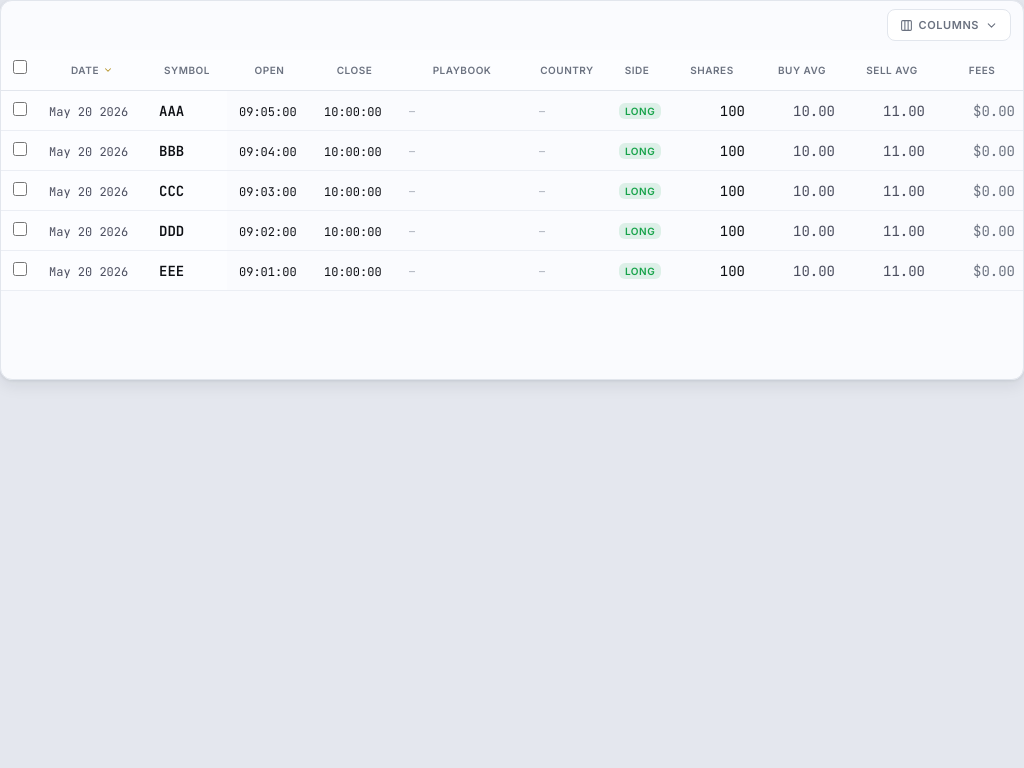
it: TradesTable — bulk selection › reject keeps the selection and surfaces the error on the bar
The width and height of the screenshot is (1024, 768).
Step 1. Click the checkbox named "Select all trades" → coordinates (20, 67), box [13,60,27,74]
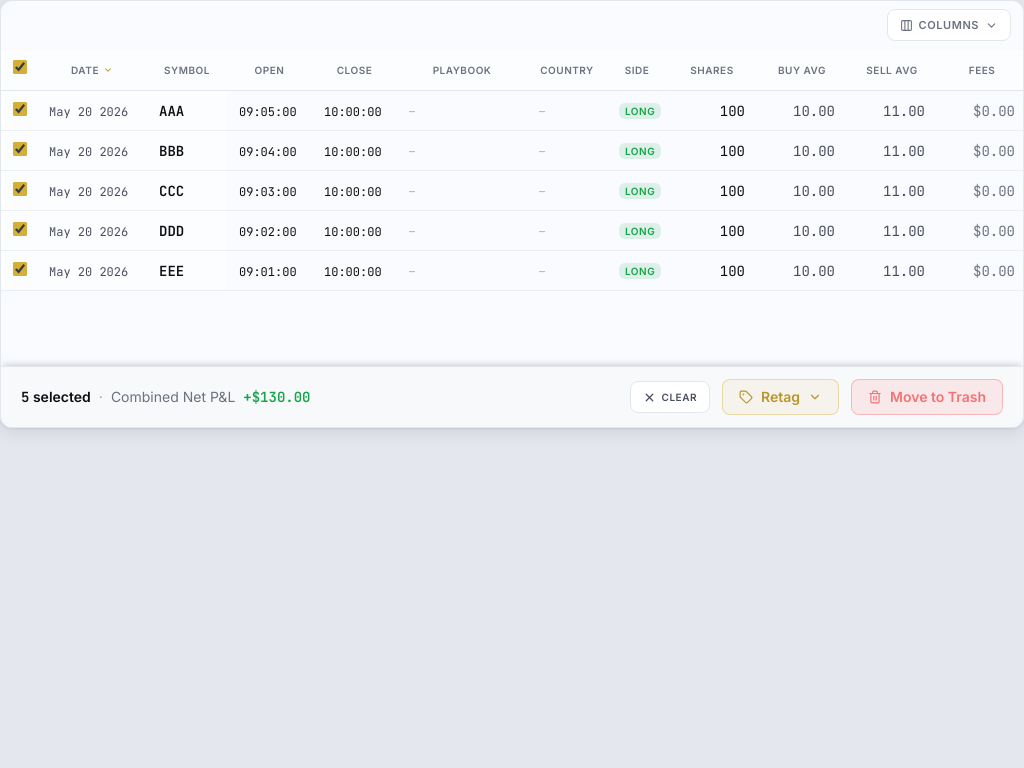
Step 2. Click the button "Move to Trash" → coordinates (927, 397), box [851,379,1003,415]
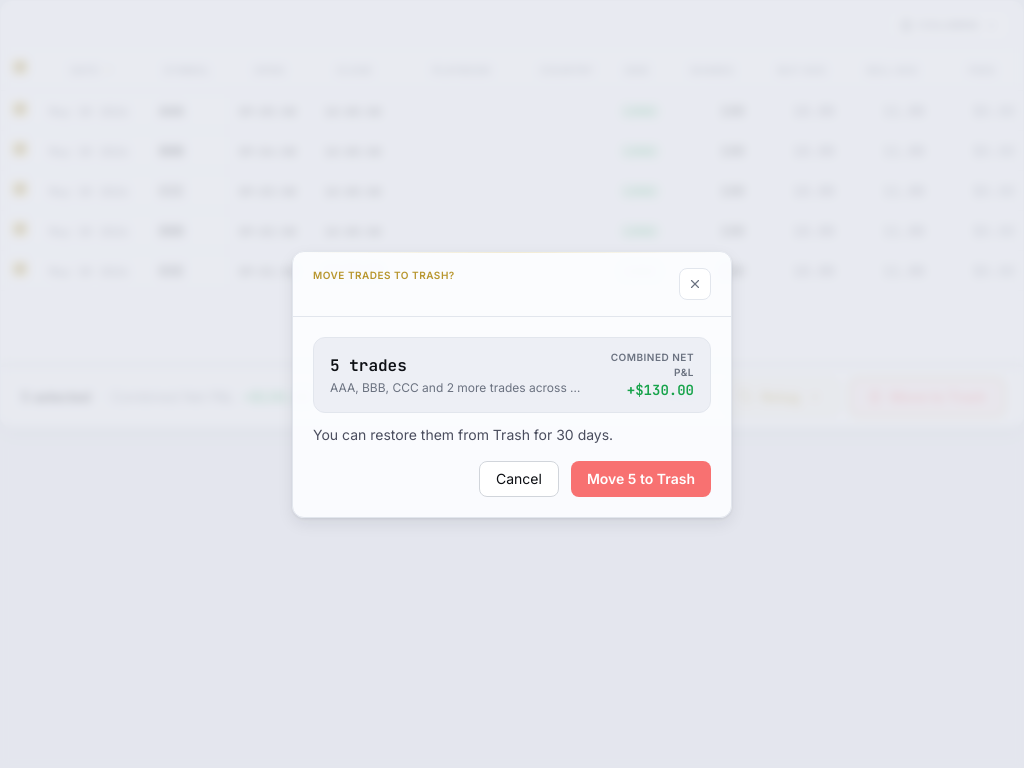
Step 3. Click the button "Move 5 to Trash" → coordinates (641, 478), box [571,460,711,496]
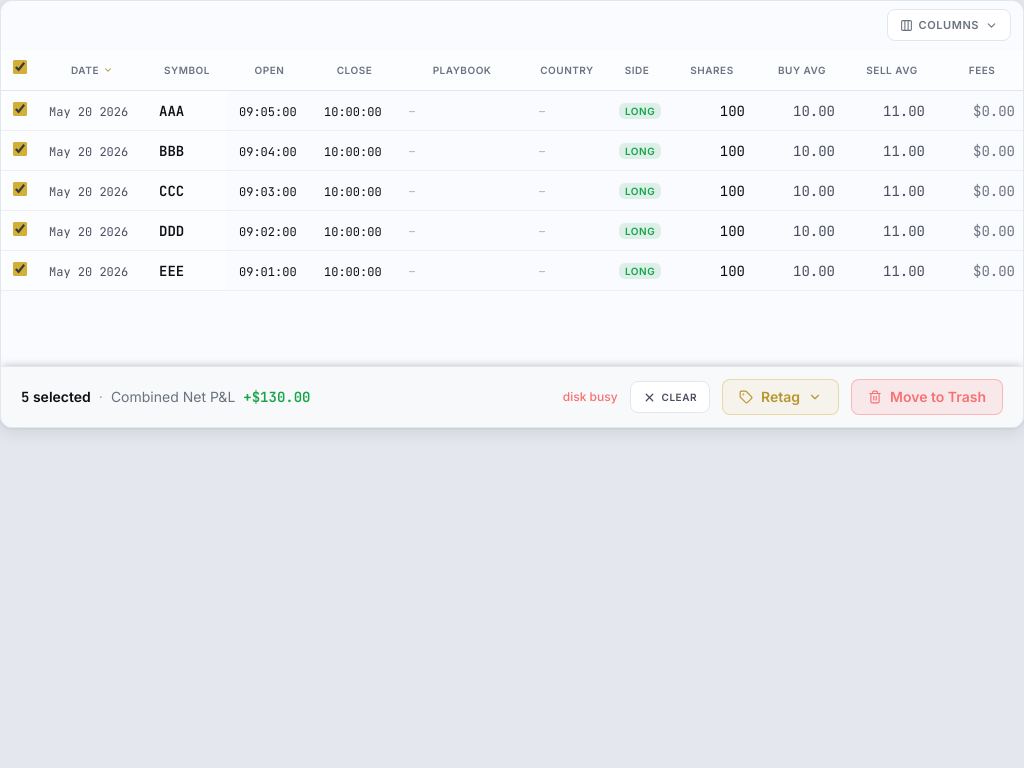
Expected: the text "disk busy" is shown, [563,389,618,405]
